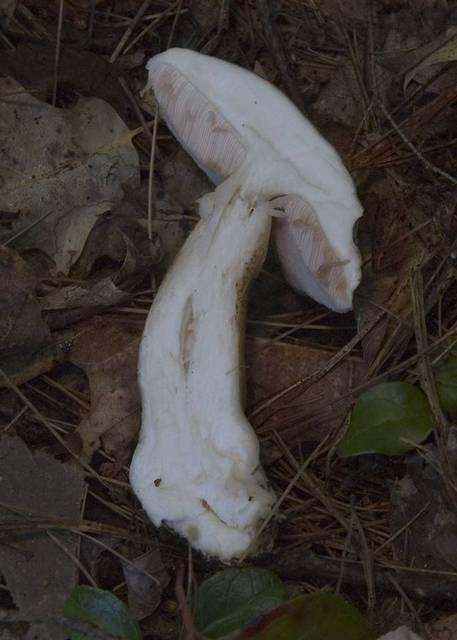poisonous_mushroom: (127, 44, 365, 561)
